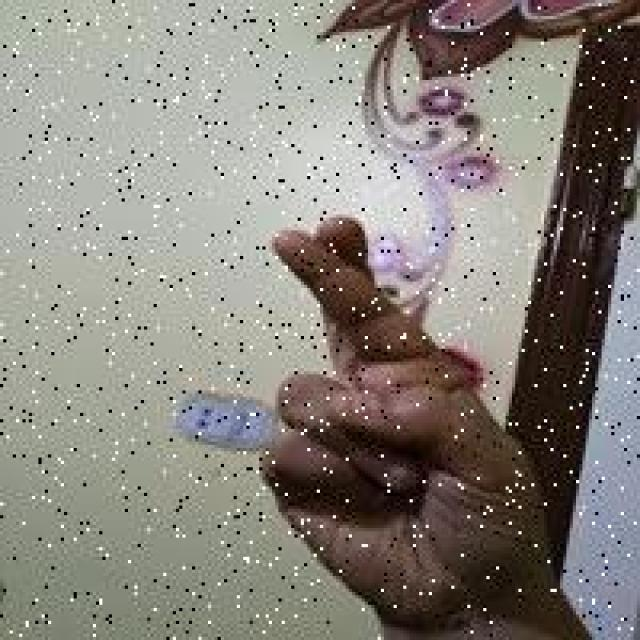R: (253, 208, 557, 627)
